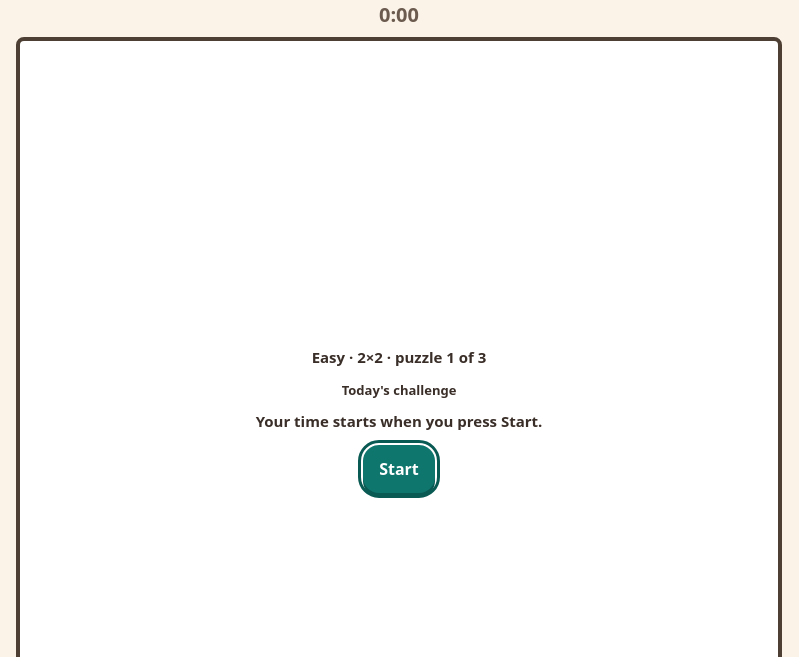
Test: the cover (rules 9-12) › Start reveals the board, and moves the keyboard onto it if Start had it
Click the button "Start" at (399, 469), box [363,445,435,493]
(page scrolled)
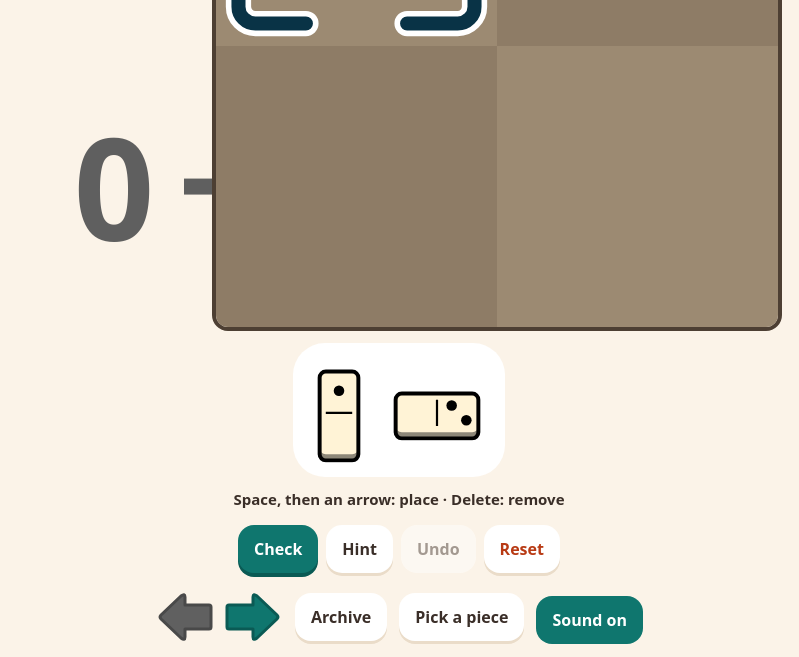
Result: the button "Reset" is enabled at [484,525,560,573]
